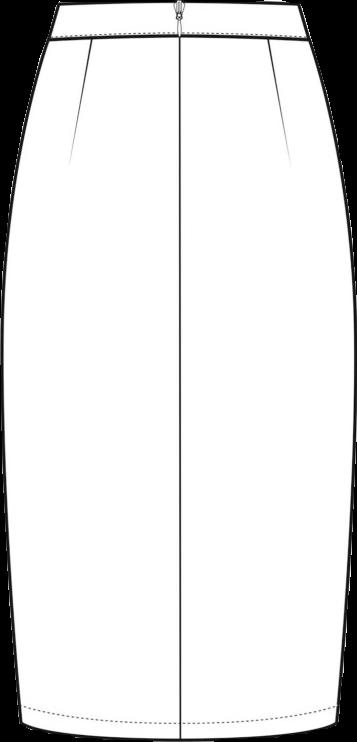Hemline: (18, 718, 340, 741)
Waistline: (45, 31, 309, 45), (53, 0, 302, 12)
